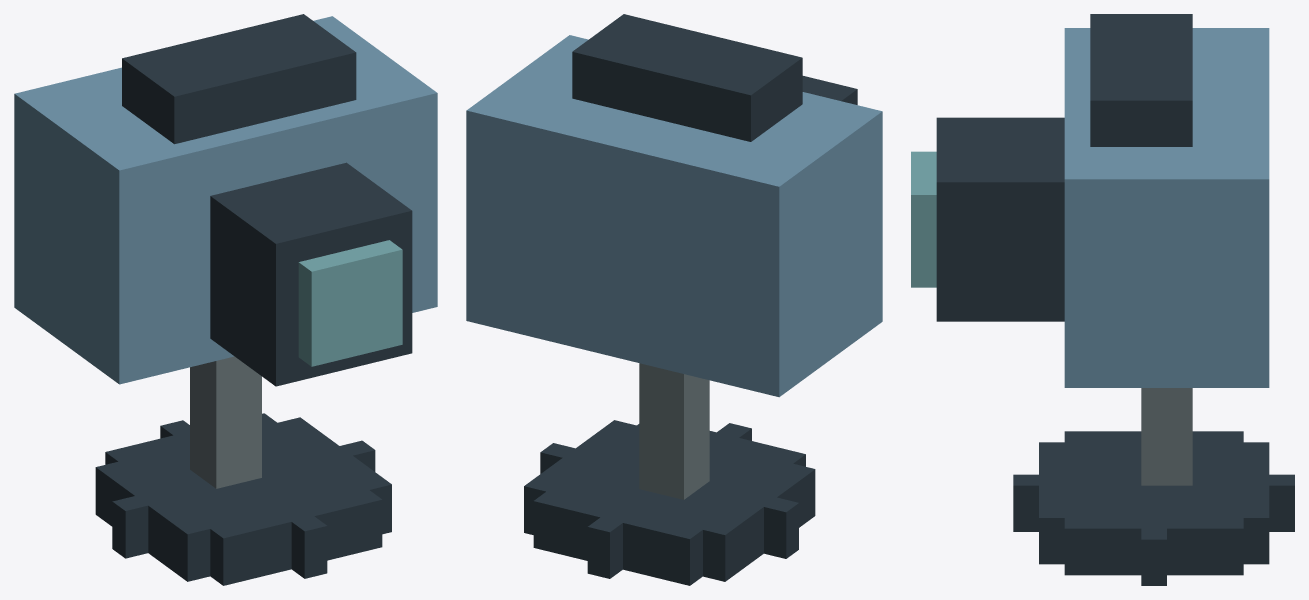
3 views of the same model, side by side, from view 1: azimuth 30°, elevation 25°; view 2: azimuth 150°, elevation 25°; view 3: azimuth 270°, elevation 25° (orthographic). The views are drawn at different scales.
Parts seen in each view (by area): view 1: Vision camera; view 2: Vision camera; view 3: Vision camera.
Part boxes in pixels (box(x1,y1,x2,y2)): Vision camera: box(14, 14, 437, 585); Vision camera: box(466, 14, 882, 585); Vision camera: box(911, 14, 1294, 585).
Bounding box in the file's own units: 1.12 × 1.6 × 1.2.
